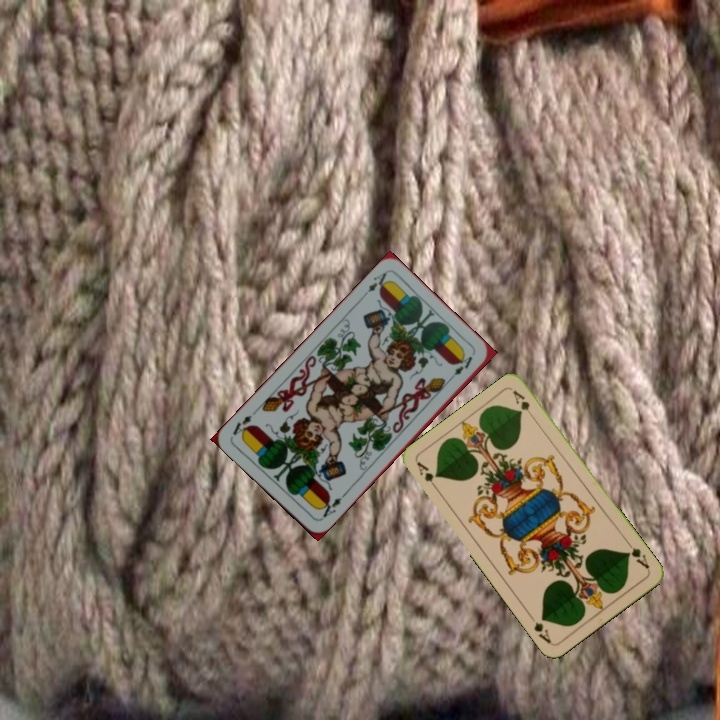EA: (315, 489, 348, 522), (363, 268, 392, 295)
GA: (623, 537, 652, 572), (413, 457, 441, 493)
